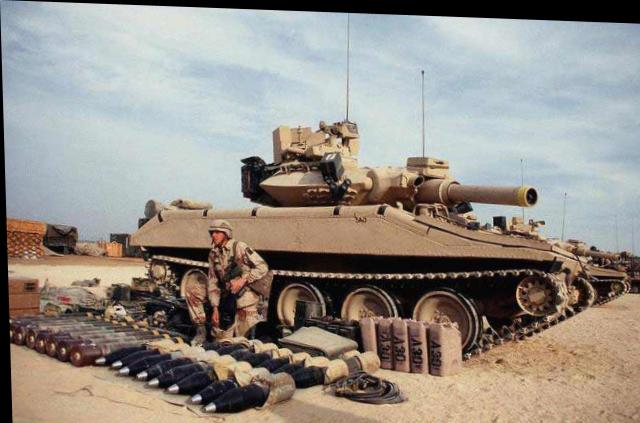other: (187, 212, 269, 350)
tank: (123, 164, 568, 356)
